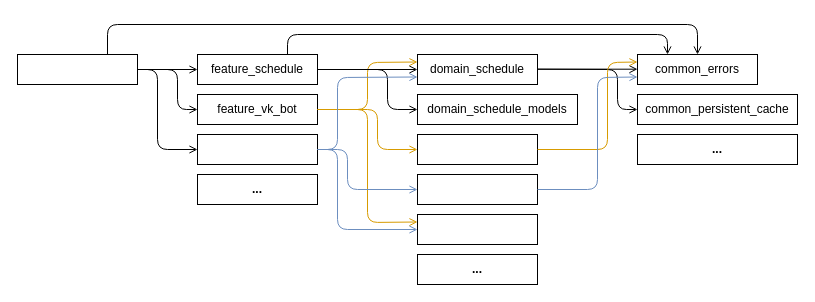
This 815x302 diagram has some shape labels left out. The box of each missing label's shape, as (x1, y1, x2, y2) in pixels:
app_schedule: (16, 54, 138, 84)
domain_bot: (416, 214, 538, 244)
domain_tg: (416, 174, 538, 204)
domain_vk: (416, 134, 538, 164)
feature_tg_bot: (196, 134, 318, 164)
